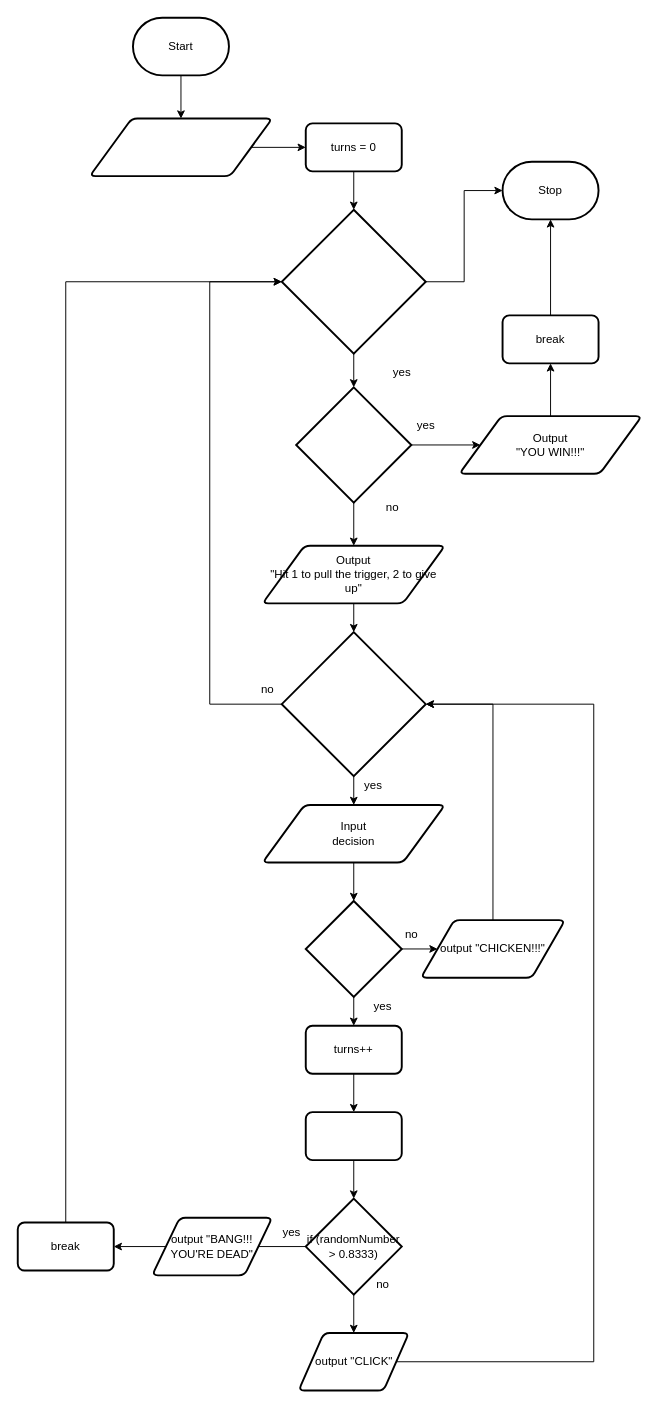
Some shapes in this 659 by 1407 pixel diagram are drawn without their labels. The shapes that lost their labels are listed below. From the top down, each one's centre as x and y in pixels, then its label:
point 180,147: Output "THIS IS A GAME OF RUSSIAN ROULETTE
point 353,281: while (true)
point 353,444: if (turns === 6)
point 353,704: while turns < 6
point 353,948: if (input !== 2)
point 353,1136: generate randomNumber
